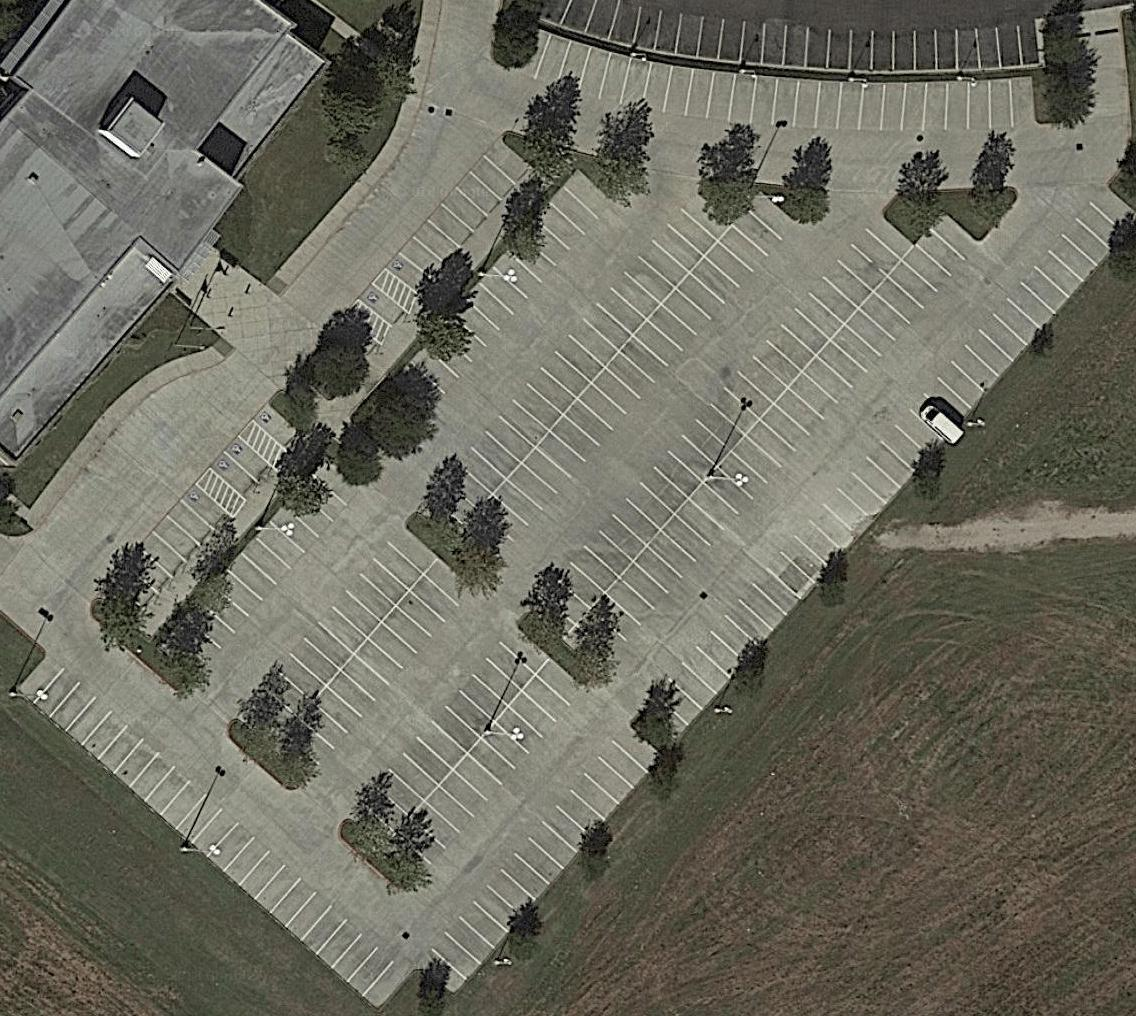parkingspot: (638, 180, 1136, 744), (559, 209, 983, 675), (524, 209, 917, 644), (14, 651, 412, 1011), (460, 190, 800, 562), (426, 189, 736, 531), (414, 721, 665, 997), (531, 32, 1038, 131), (235, 521, 440, 750), (270, 555, 477, 777), (359, 620, 553, 837), (393, 655, 587, 868), (554, 0, 1041, 73), (169, 472, 349, 669), (444, 166, 616, 350), (381, 135, 532, 298), (105, 481, 234, 612), (389, 342, 462, 418), (207, 433, 276, 503), (250, 400, 307, 456), (355, 281, 411, 330)
